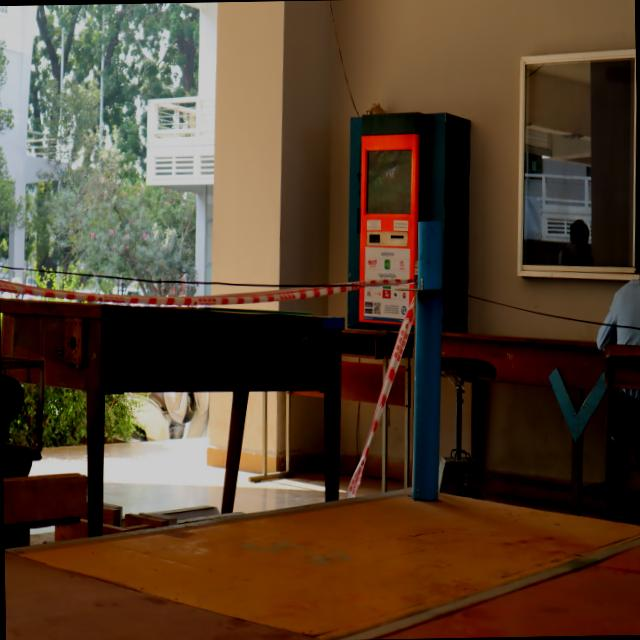pole: (398, 217, 464, 352)
